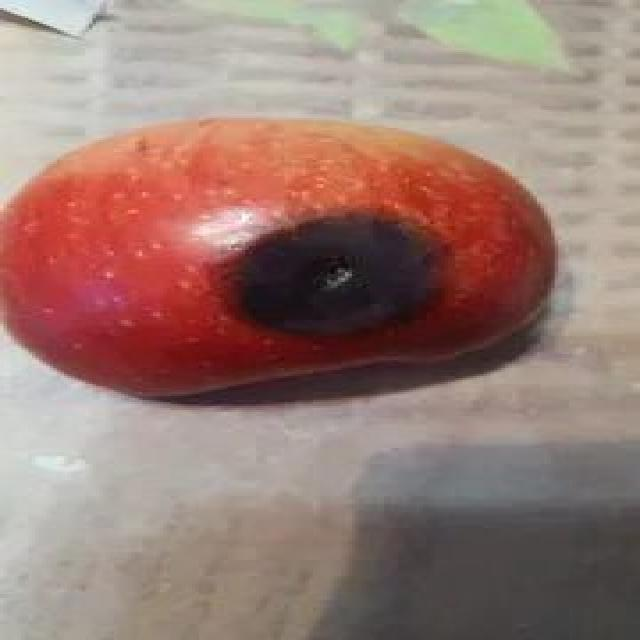Rotten: (4, 116, 558, 408)
